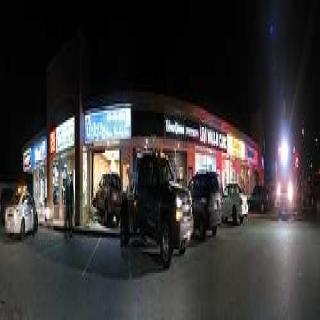Towing_truck: (120, 144, 194, 268)
